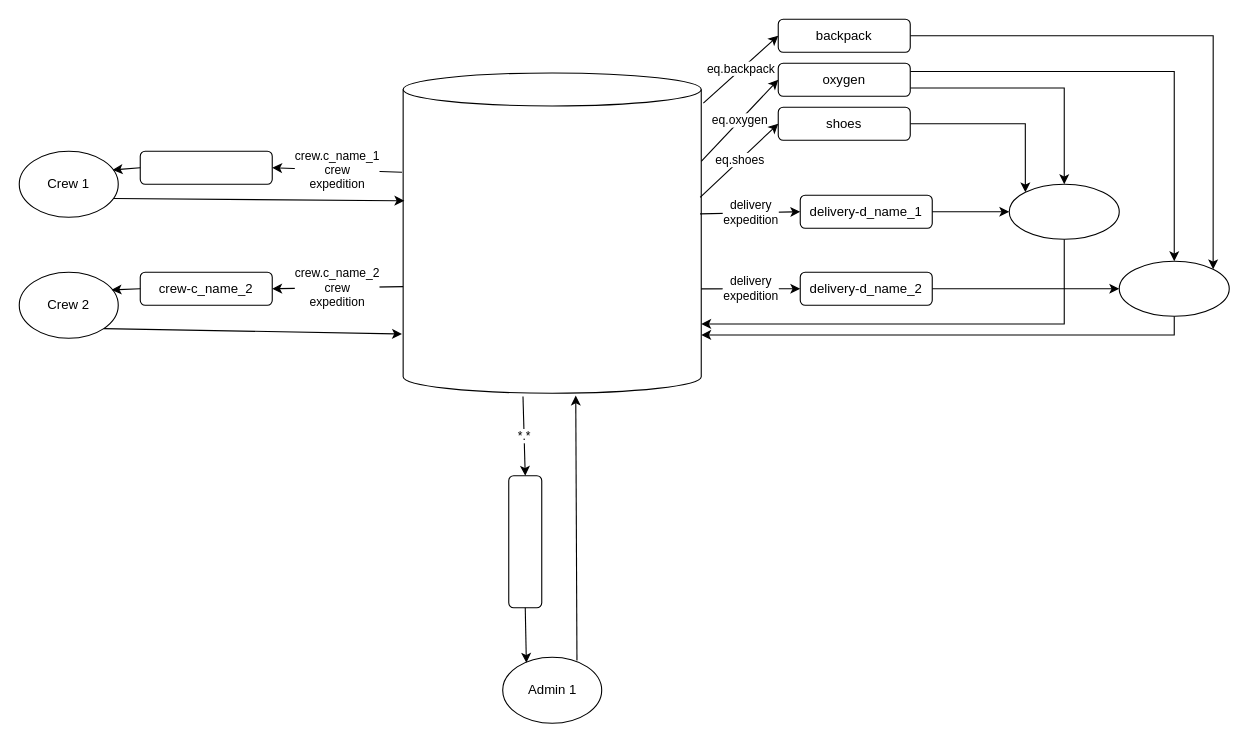
This 1249x743 diagram has some shape labels left out. The shapes that lost their labels are listed below. From the top down, each one's centre as x and y in pixels, then its label:
At [205,167]: "crew-c_name_1".
At [1063,211]: "Delivery 1".
At [551,232]: "expedition-exchange (topic)".
At [1173,288]: "Delivery 2".
At [525,541]: "admin-a_name_1".
